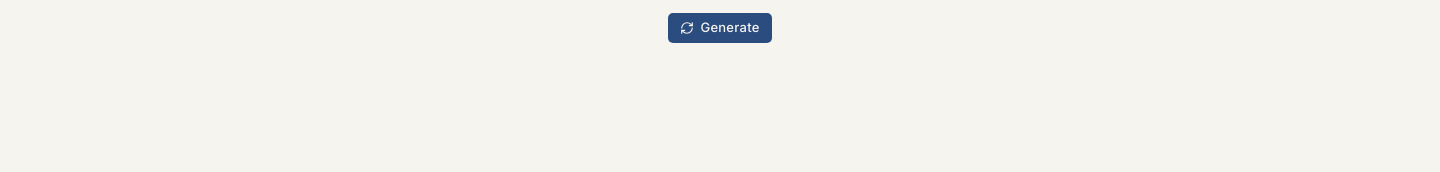
Test: GenerateButton › clears the no-active-tasks message when retry starts
Click the button "Generate" at coordinates (720, 28), box [667, 12, 773, 44]
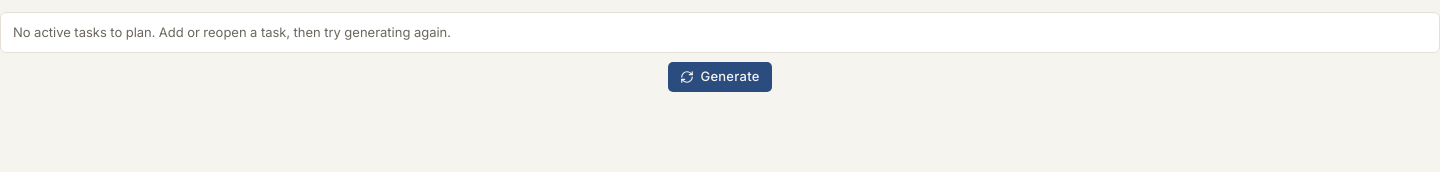
Expected: the message "No active tasks to plan. Add or reopen a task, then try generating again." is shown, [0, 12, 1439, 53]
Click the button "Generate" at coordinates (720, 77), box [667, 61, 773, 93]
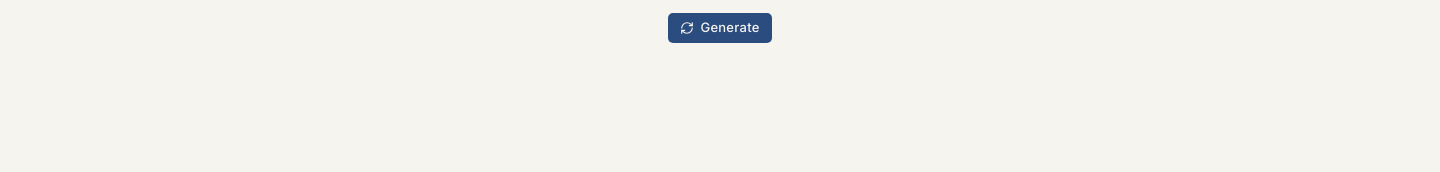
Expected: the message "No active tasks to plan. Add or reopen a task, then try generating again." is gone
